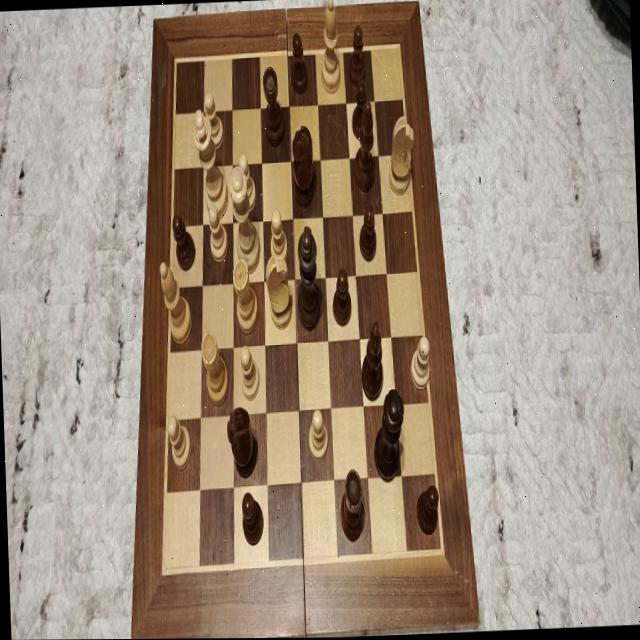black_bishop: (352, 101, 376, 192), (360, 320, 386, 398)
black_king: (294, 225, 322, 330)
black_knight: (226, 406, 258, 479), (290, 125, 315, 208)
black_pawn: (170, 210, 196, 270), (414, 482, 440, 534), (330, 266, 352, 326), (289, 31, 308, 94), (240, 490, 262, 543), (348, 23, 366, 86), (358, 204, 377, 261), (350, 82, 368, 140)
black_queen: (371, 388, 406, 479)
black_rook: (338, 469, 366, 541), (260, 64, 284, 143)
white_bishop: (160, 260, 192, 346), (318, 0, 340, 94)
white_king: (192, 107, 229, 219)
white_knight: (386, 114, 416, 197), (264, 254, 292, 330)
white_pawn: (166, 413, 191, 470), (206, 199, 228, 263), (201, 90, 224, 151), (408, 334, 431, 392), (238, 341, 260, 400), (268, 205, 287, 268), (307, 408, 329, 461), (238, 153, 256, 213)
white_queen: (228, 164, 261, 275)
white_rook: (200, 328, 228, 403), (232, 256, 258, 334)
